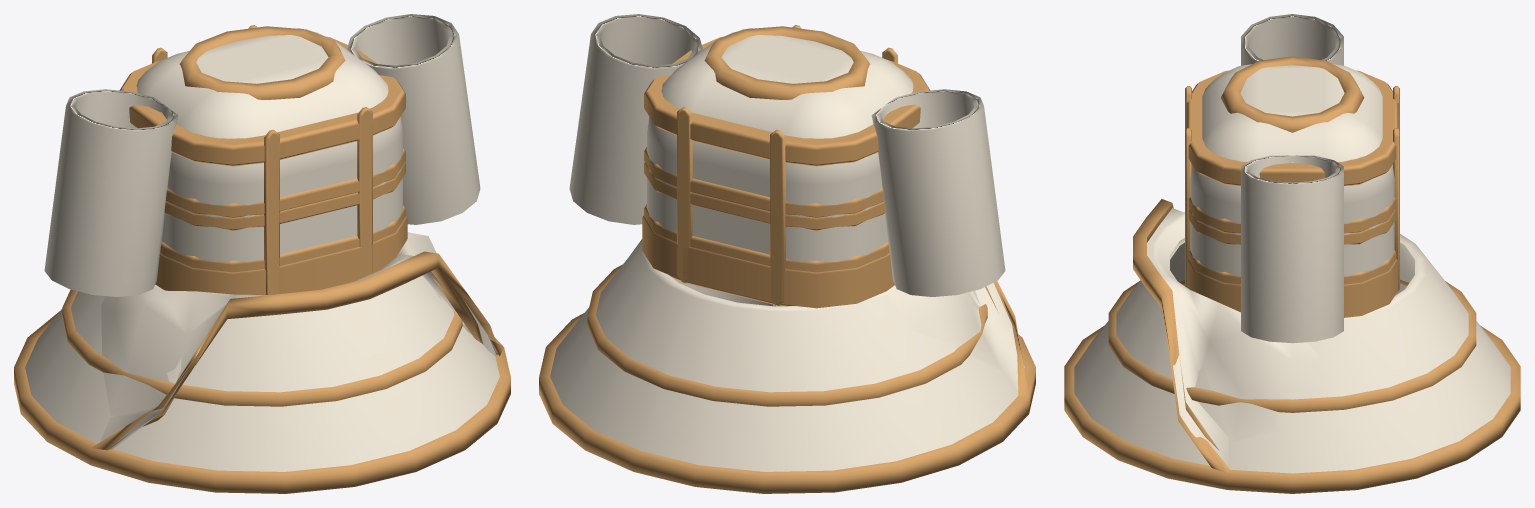
File: checkered_jumper_dress.glb
3 views of the same model, side by side, from view 1: azimuth 30°, elevation 25°; view 2: azimuth 150°, elevation 25°; view 3: azimuth 270°, elevation 25° (orthographic). The views are drawn at different scales.
Parts seen in each view (by area): view 1: checkered_jumper_dress_Body, checkered_jumper_dress_Body_sit, checkered_jumper_dress_ArmL, checkered_jumper_dress_ArmR; view 2: checkered_jumper_dress_Body, checkered_jumper_dress_Body_sit, checkered_jumper_dress_ArmL, checkered_jumper_dress_ArmR, checkered_jumper_dress_LegR_sit; view 3: checkered_jumper_dress_Body, checkered_jumper_dress_Body_sit, checkered_jumper_dress_ArmR, checkered_jumper_dress_ArmL.
Part boxes in pixels (x1=…): checkered_jumper_dress_Body: x1=14, y1=26, x2=510, y2=493; checkered_jumper_dress_Body_sit: x1=91, y1=25, x2=503, y2=450; checkered_jumper_dress_ArmL: x1=44, y1=89, x2=178, y2=296; checkered_jumper_dress_ArmR: x1=347, y1=14, x2=480, y2=224; checkered_jumper_dress_Body: x1=539, y1=26, x2=1035, y2=493; checkered_jumper_dress_Body_sit: x1=630, y1=25, x2=1028, y2=396; checkered_jumper_dress_ArmL: x1=871, y1=89, x2=1005, y2=296; checkered_jumper_dress_ArmR: x1=569, y1=14, x2=702, y2=224; checkered_jumper_dress_LegR_sit: x1=672, y1=277, x2=776, y2=306; checkered_jumper_dress_Body: x1=1064, y1=56, x2=1520, y2=493; checkered_jumper_dress_Body_sit: x1=1133, y1=70, x2=1414, y2=473; checkered_jumper_dress_ArmR: x1=1241, y1=155, x2=1343, y2=343; checkered_jumper_dress_ArmL: x1=1241, y1=14, x2=1343, y2=65.
Size of the model in its own units: 0.648 by 0.5289 by 0.6414.
